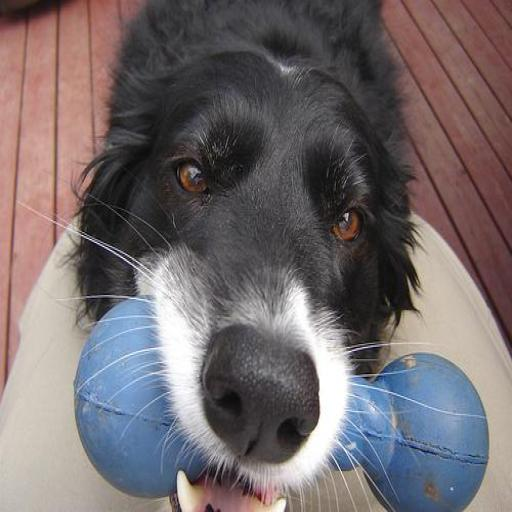dog_face: (103, 77, 416, 492)
